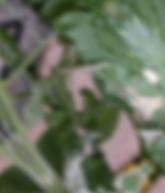Tomato leaf bacterial spot: (31, 0, 165, 139)
